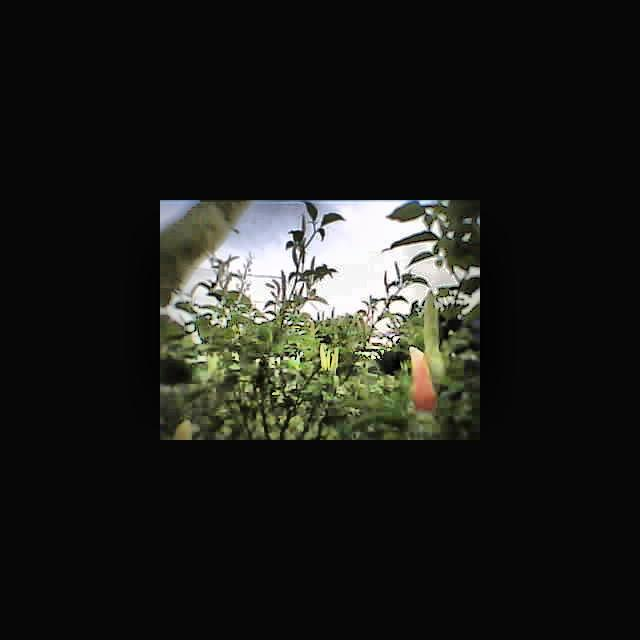Cabai: (410, 346, 437, 405)
